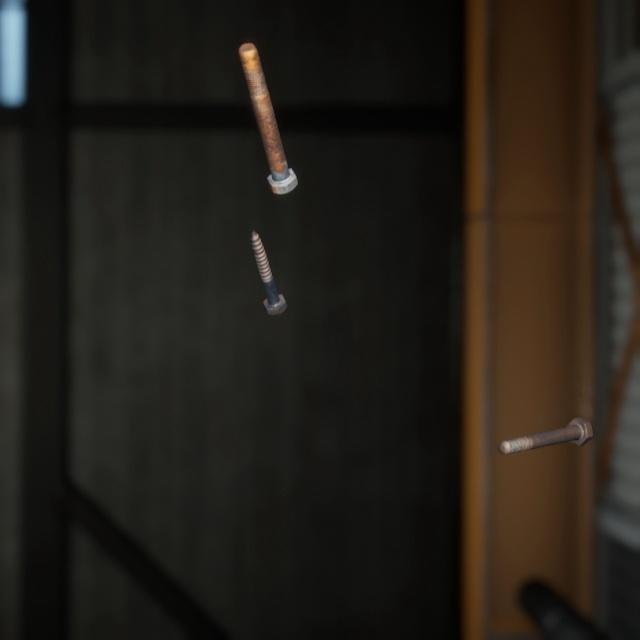bolt: (234, 25, 302, 185), (493, 392, 597, 438), (246, 209, 291, 303)
